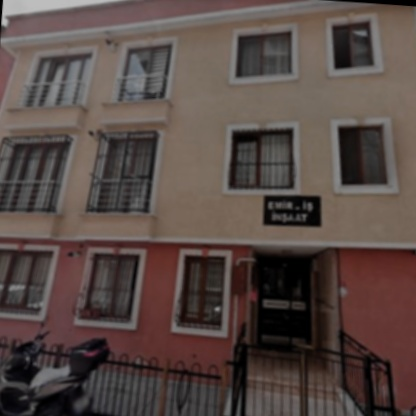door: (250, 255, 320, 357)
